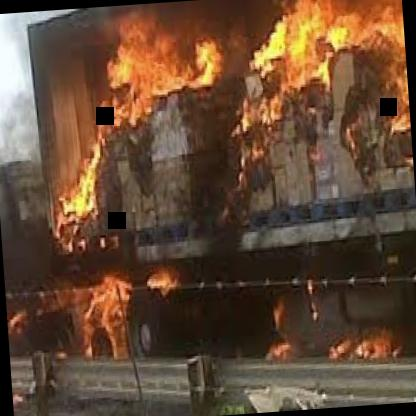fire: (288, 0, 408, 132), (178, 0, 274, 128), (89, 3, 162, 112), (47, 138, 118, 218), (70, 267, 141, 344)
